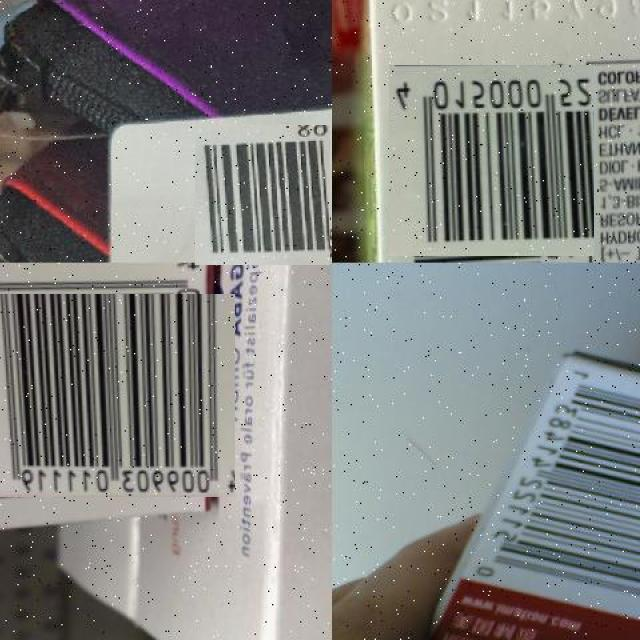Barcode: (454, 347, 640, 640), (0, 279, 219, 514), (392, 61, 591, 259), (193, 125, 331, 264)
